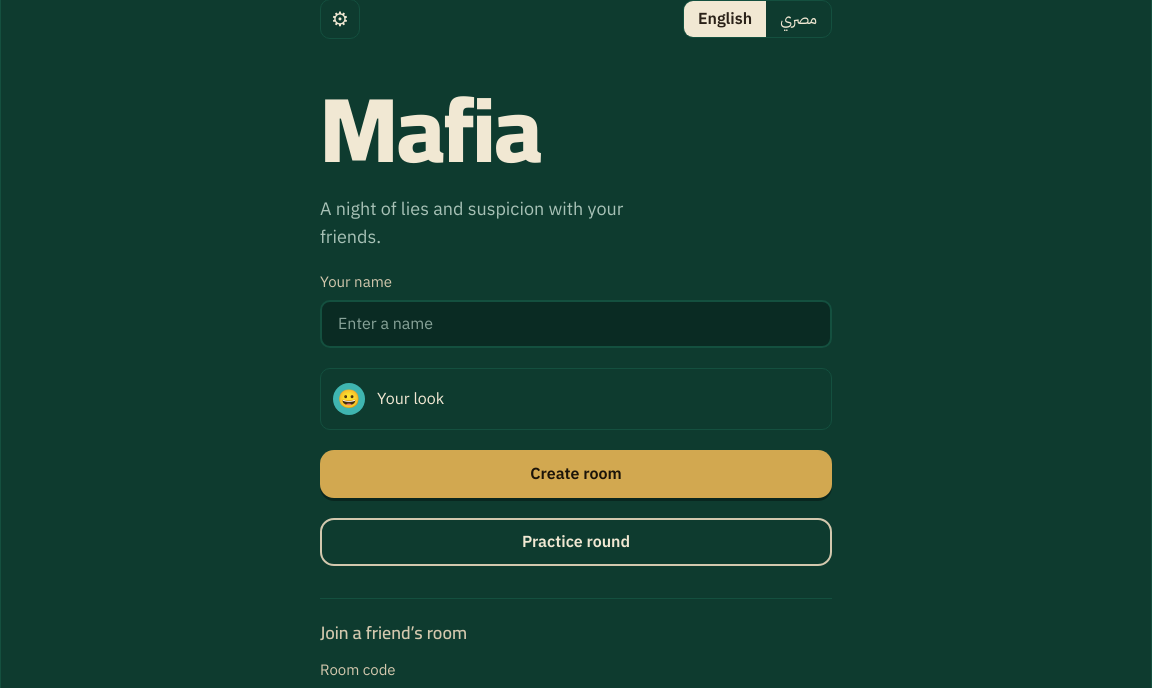
it: home screen › joins a room and shows a translated server error
Type "Sam" into the field labelled "Your name". click: (576, 324)
box: 320,300 -> 832,348
(page scrolled)
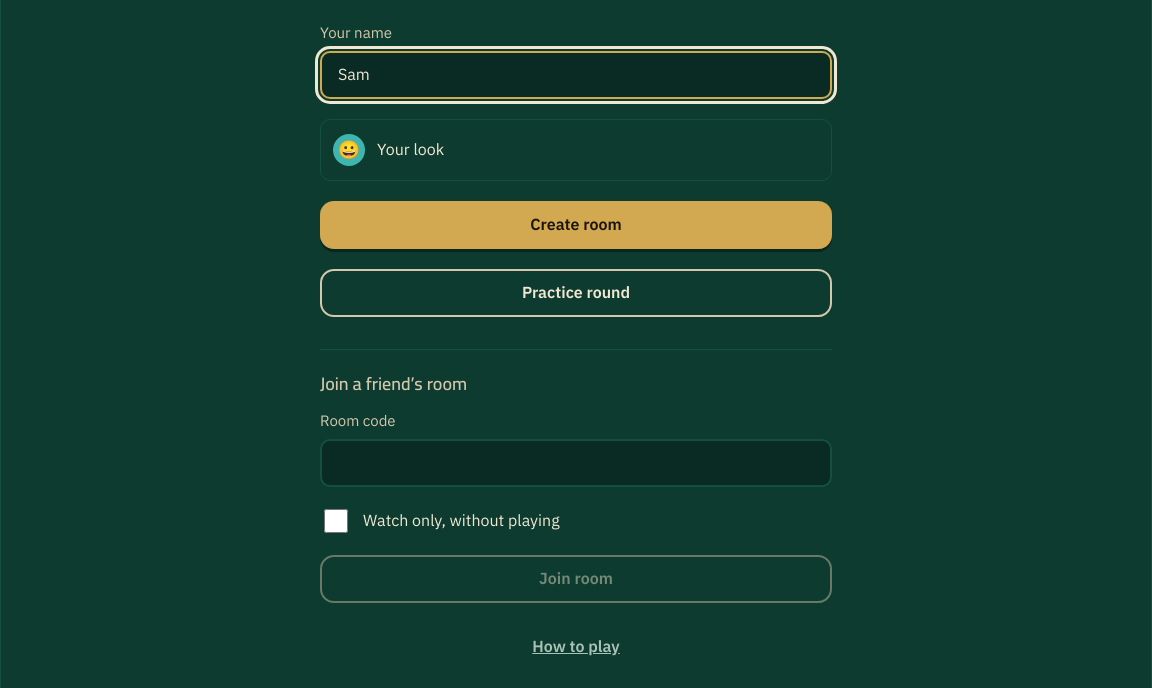
Type "zzzz" into the field labelled "Room code". click: (576, 463)
box: 320,439 -> 832,487
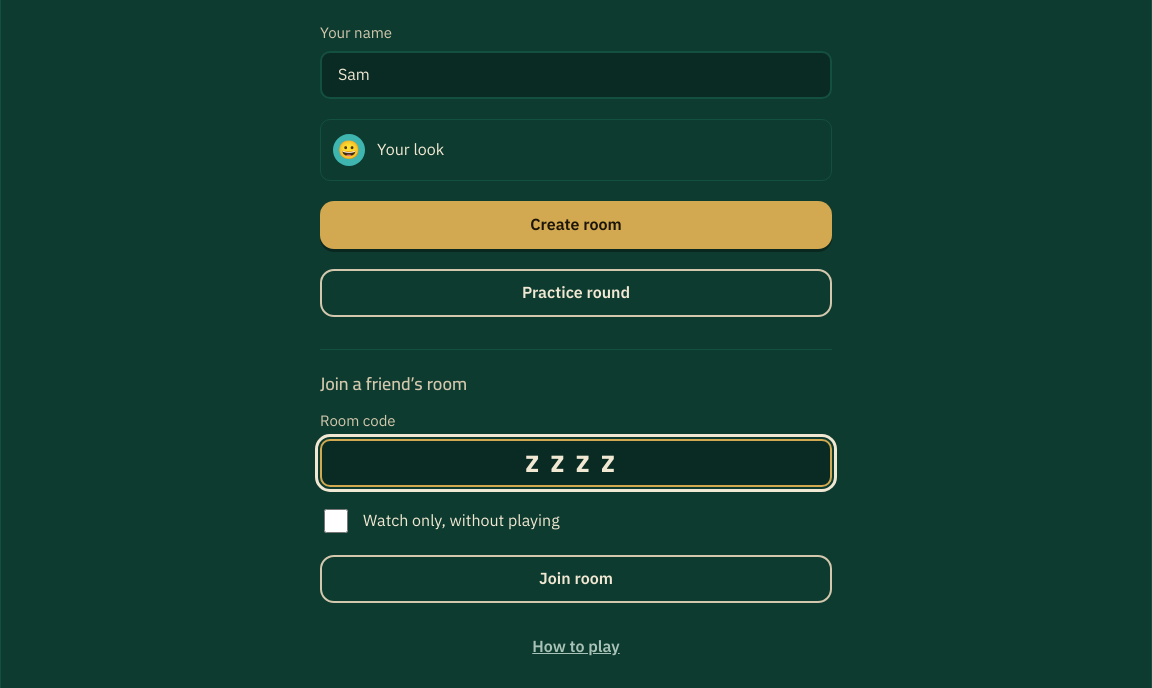
Click the button "Join room". click: (576, 579)
box: 320,555 -> 832,603
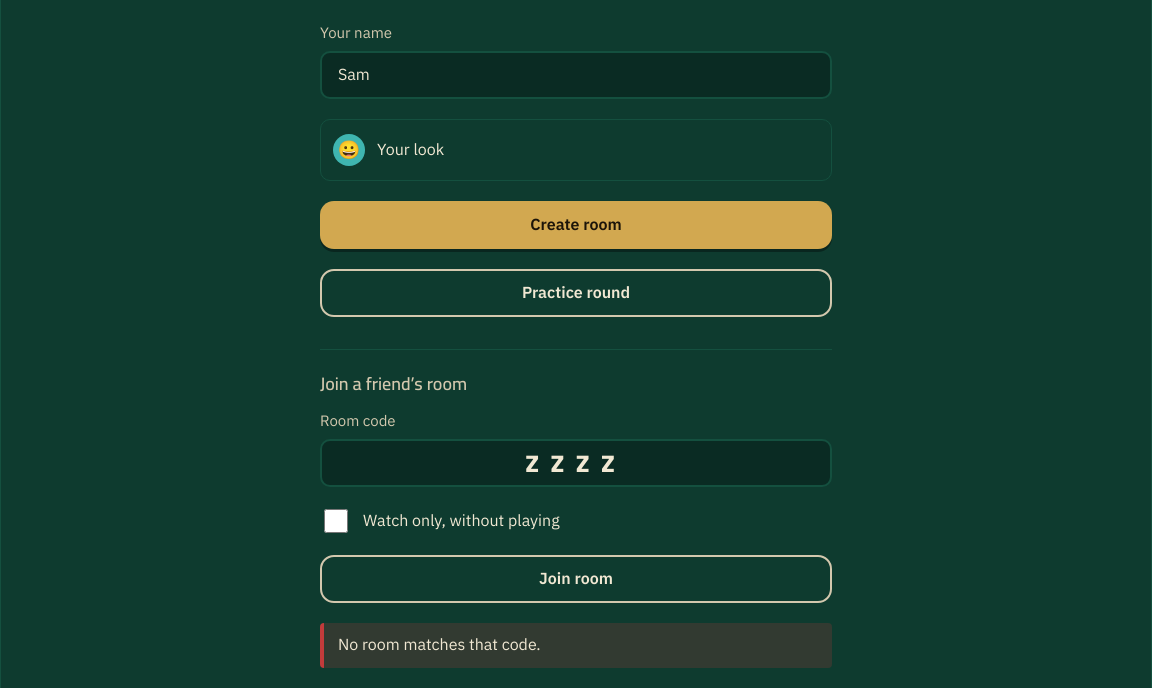
Now the message reads "No room matches that code.", box 338,633 -> 541,657
